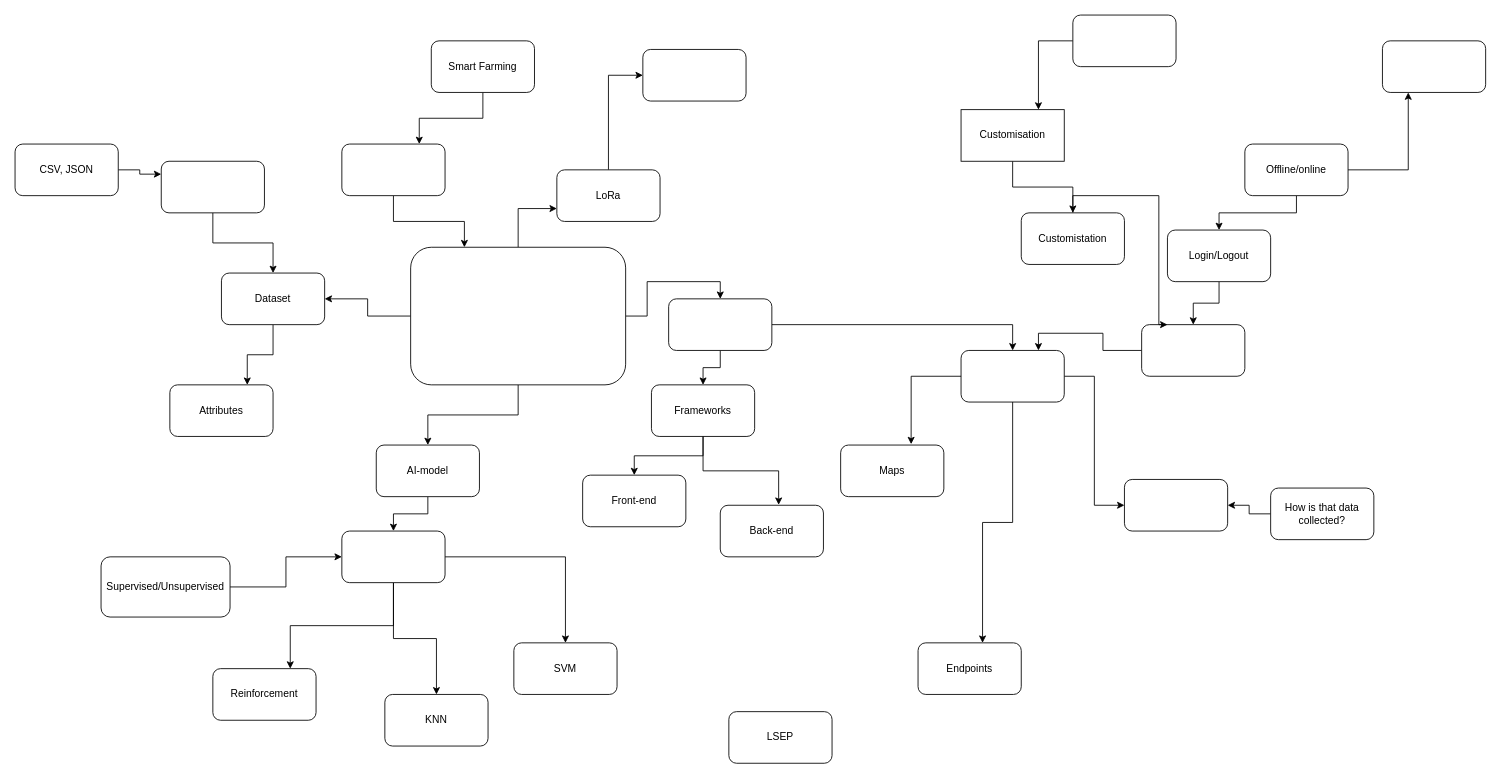
Image size: 1501x778. Some labels were removed from this diagram. The shapes that lost their labels are listed below. From the top down, each one's box as (x1, y1, x2, y2) in pixels, then its label:
(1072, 14, 1176, 67): Light / Dark mode
(642, 49, 746, 101): LoRaWAN
(1382, 40, 1486, 92): Database? Cloud, Azure, mySQL, firebase
(160, 160, 264, 213): File Type
(341, 143, 445, 196): Use Cases
(410, 246, 626, 385): LoRaWAN network anomaly detection application using machine learning
(668, 298, 772, 350): Application
(1141, 324, 1245, 376): Profile Functionality
(960, 350, 1064, 402): Dashboard
(1124, 479, 1228, 531): Network reader/live feed
(341, 530, 445, 583): Type
